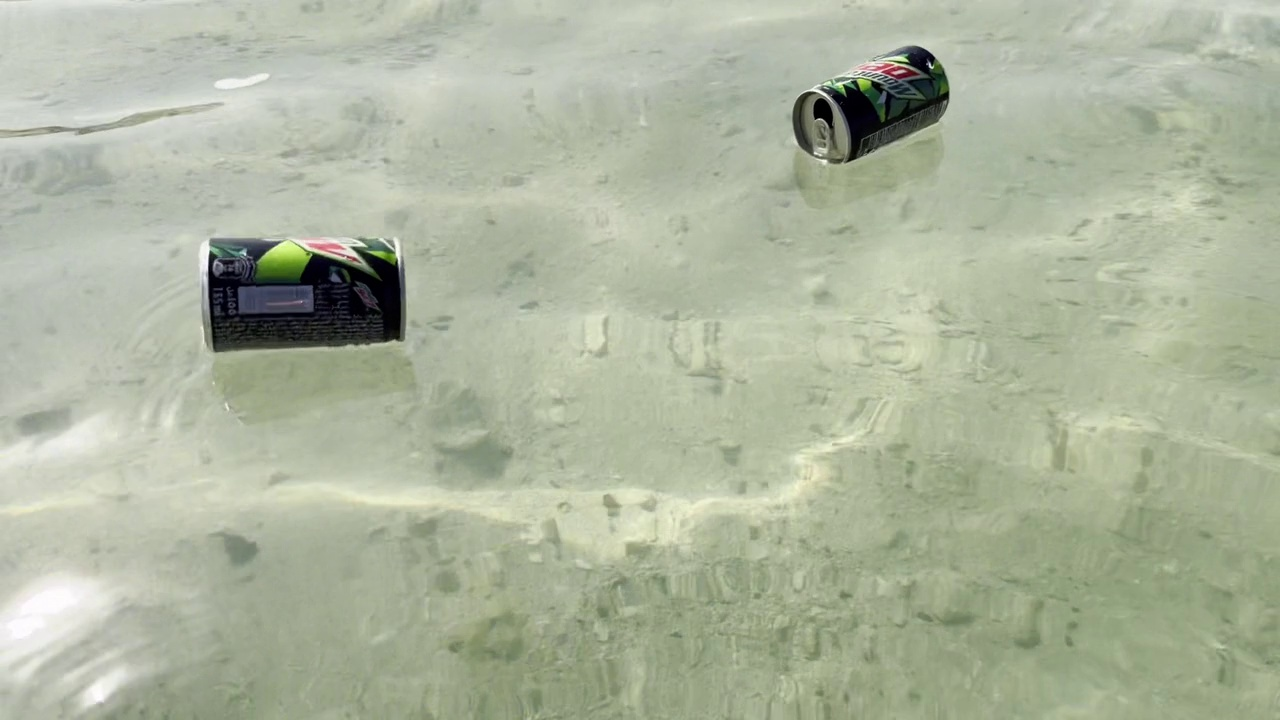debris: (190, 228, 413, 359), (784, 41, 952, 173)
